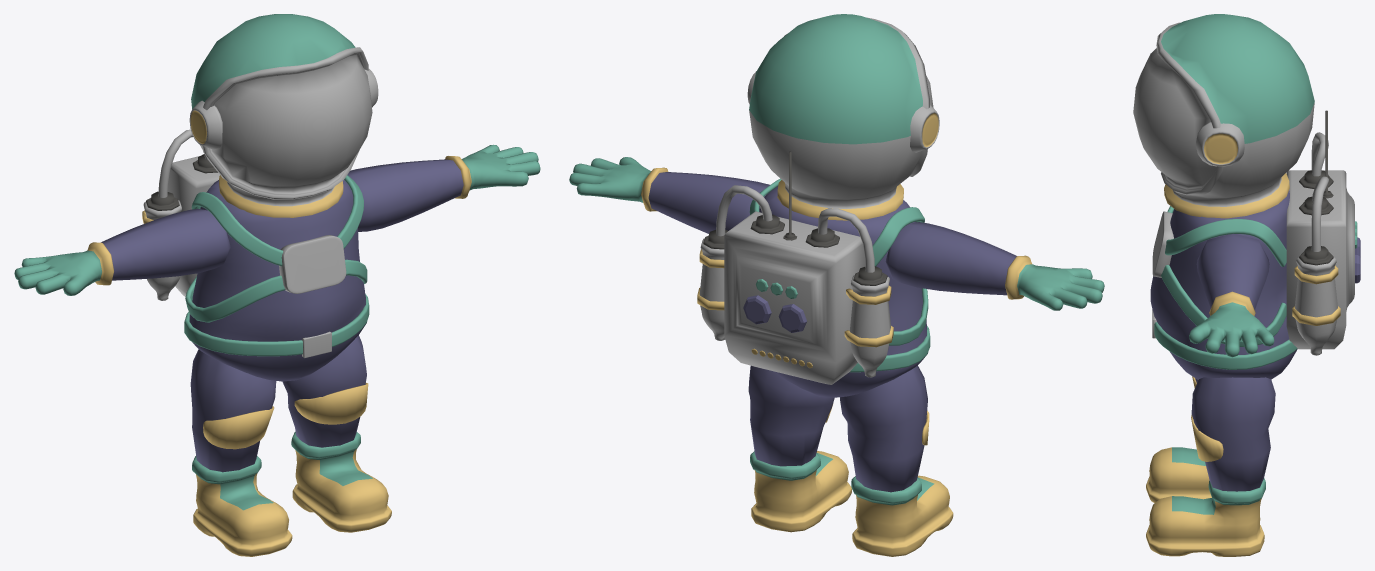
File: Astronatu_V1.fbx
The picture shows the model from 3 angles, left to right: view 1: azimuth 30°, elevation 25°; view 2: azimuth 150°, elevation 25°; view 3: azimuth 270°, elevation 25°; orthographic projection.
Visible parts, largest first — view 1: Astronatu V1; view 2: Astronatu V1; view 3: Astronatu V1.
Part boxes in pixels (bbox=[...]): Astronatu V1: bbox=[14, 14, 540, 556]; Astronatu V1: bbox=[569, 14, 1104, 556]; Astronatu V1: bbox=[1133, 14, 1360, 556].
Bounding box in the file's own units: 388 × 355 × 147.
1 material, 1 textured.
